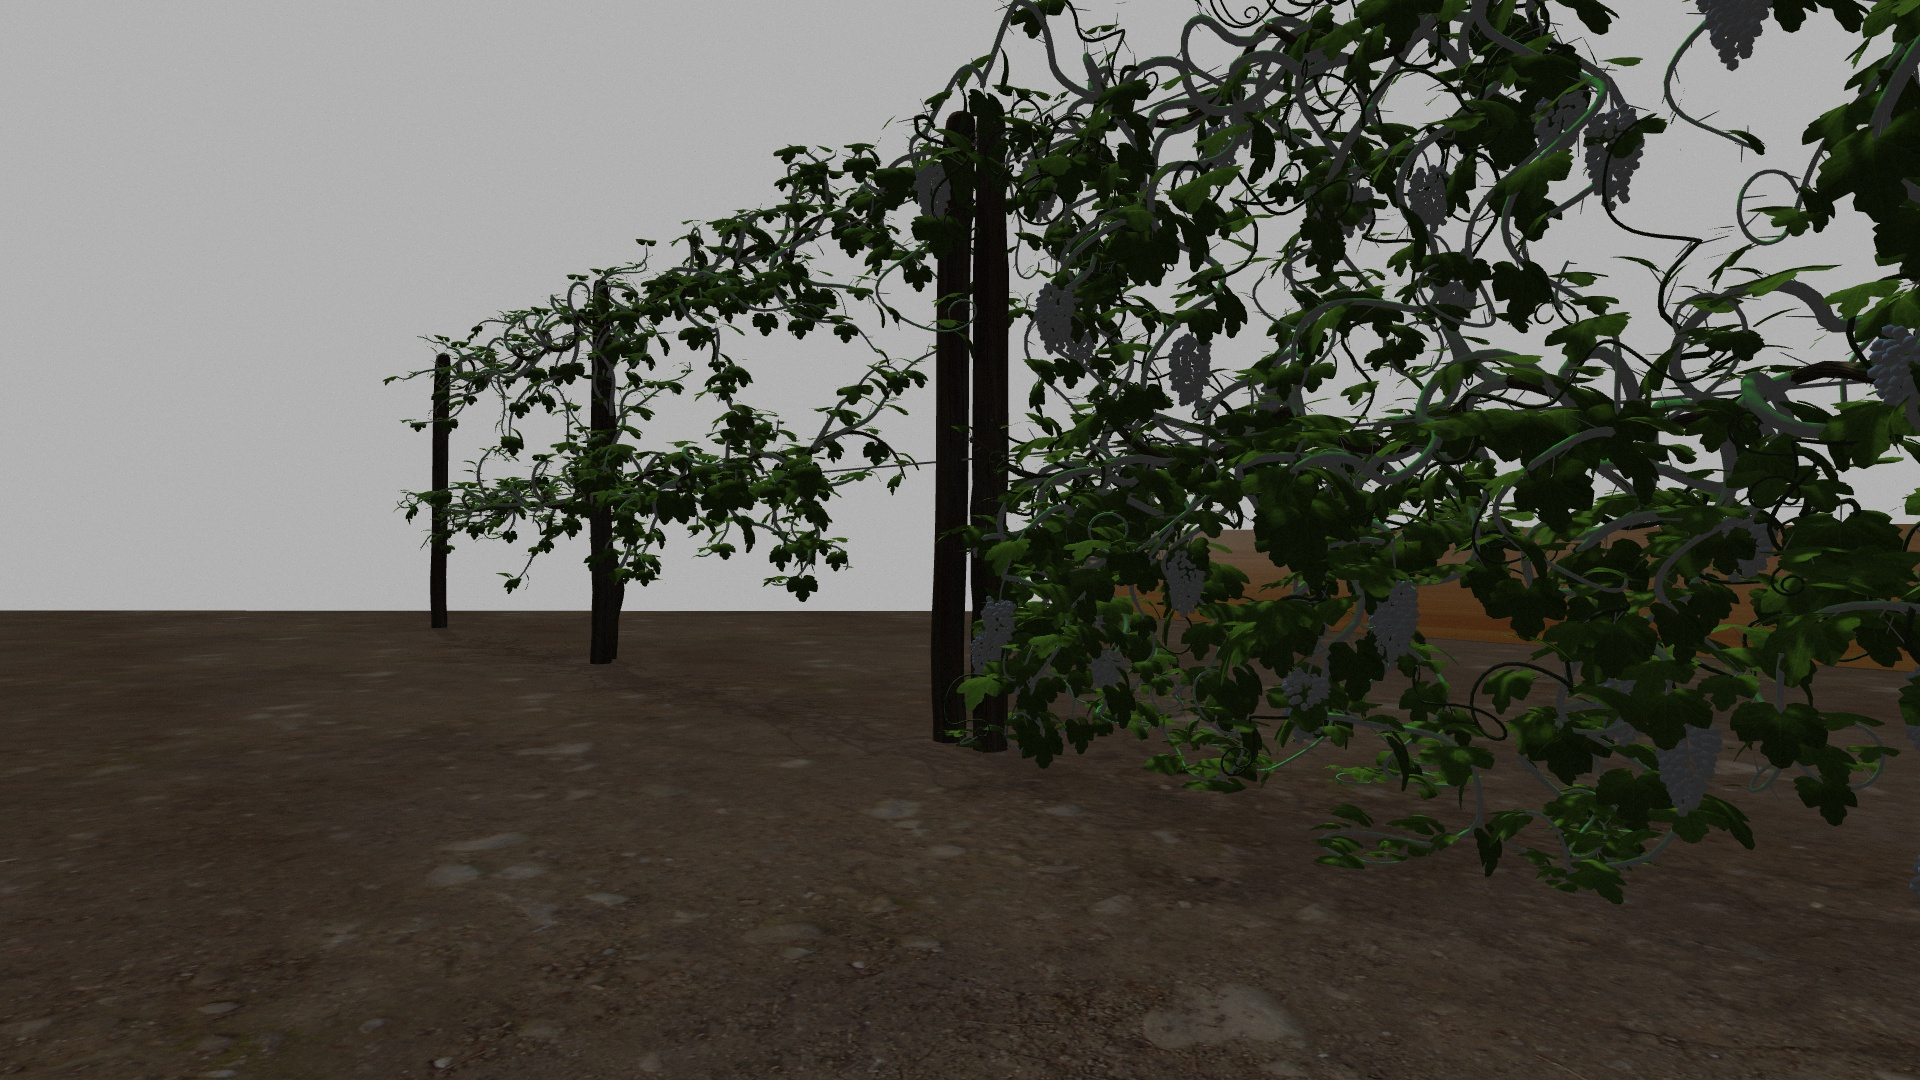grape: (1655, 713, 1724, 819), (1584, 107, 1642, 210), (1867, 322, 1915, 421), (1369, 579, 1422, 667), (1531, 88, 1586, 157), (1167, 334, 1213, 406), (1033, 280, 1079, 351), (1163, 553, 1208, 618), (1408, 166, 1451, 233), (1284, 663, 1333, 713), (913, 164, 952, 219), (980, 595, 1017, 649), (1085, 645, 1131, 684), (971, 633, 1002, 676)
